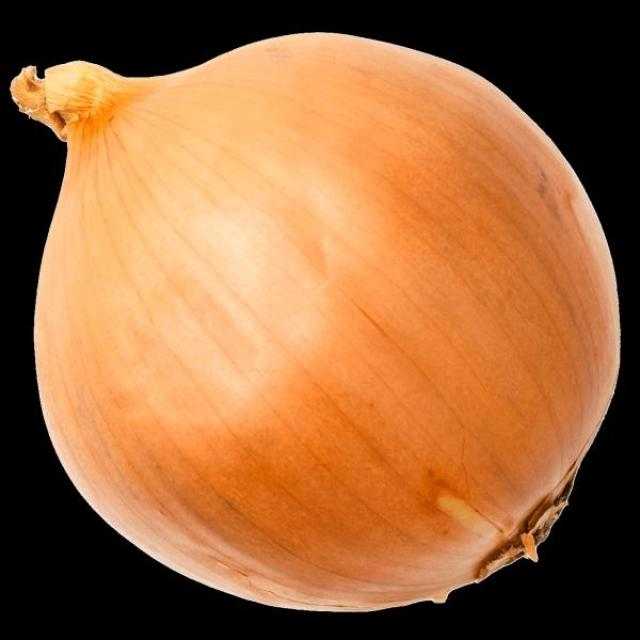Onion: (9, 32, 622, 613)
